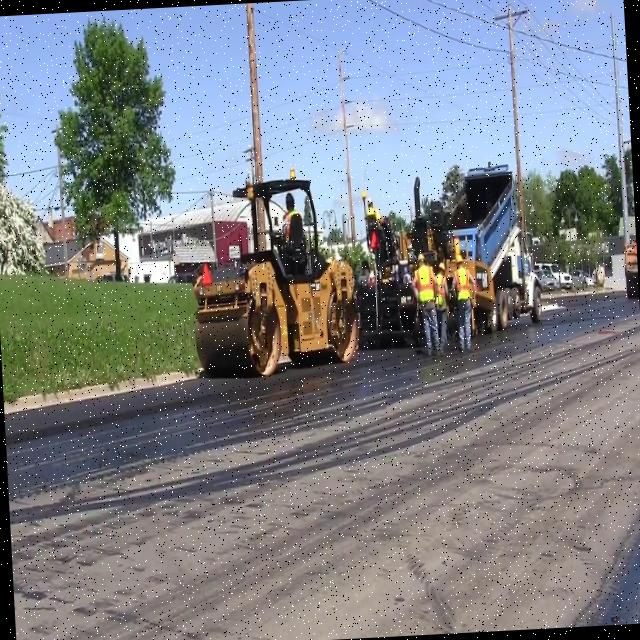Dump Truck: (442, 161, 543, 328)
Roller: (186, 173, 360, 379)
